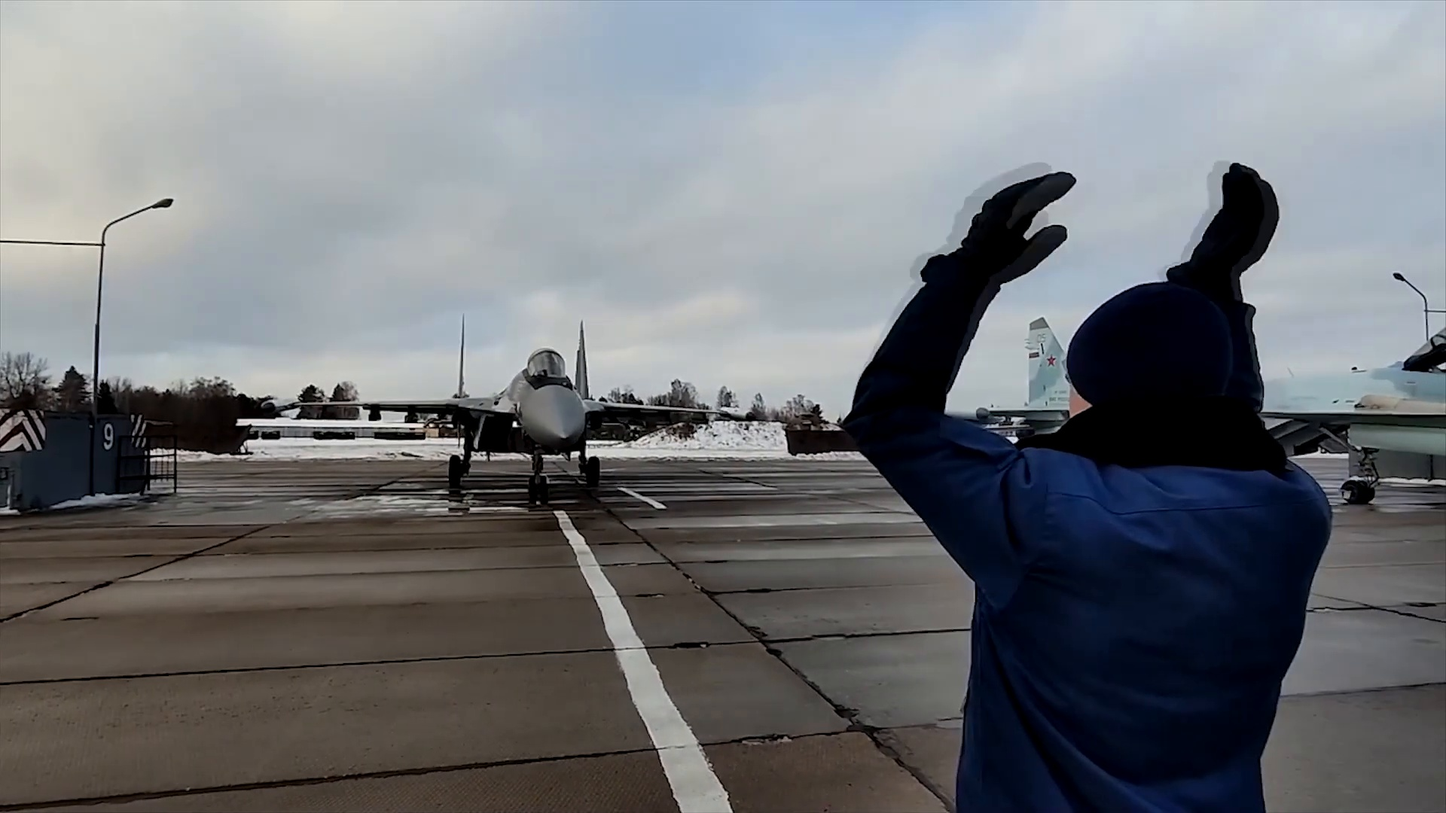Su35: (261, 312, 756, 500)
